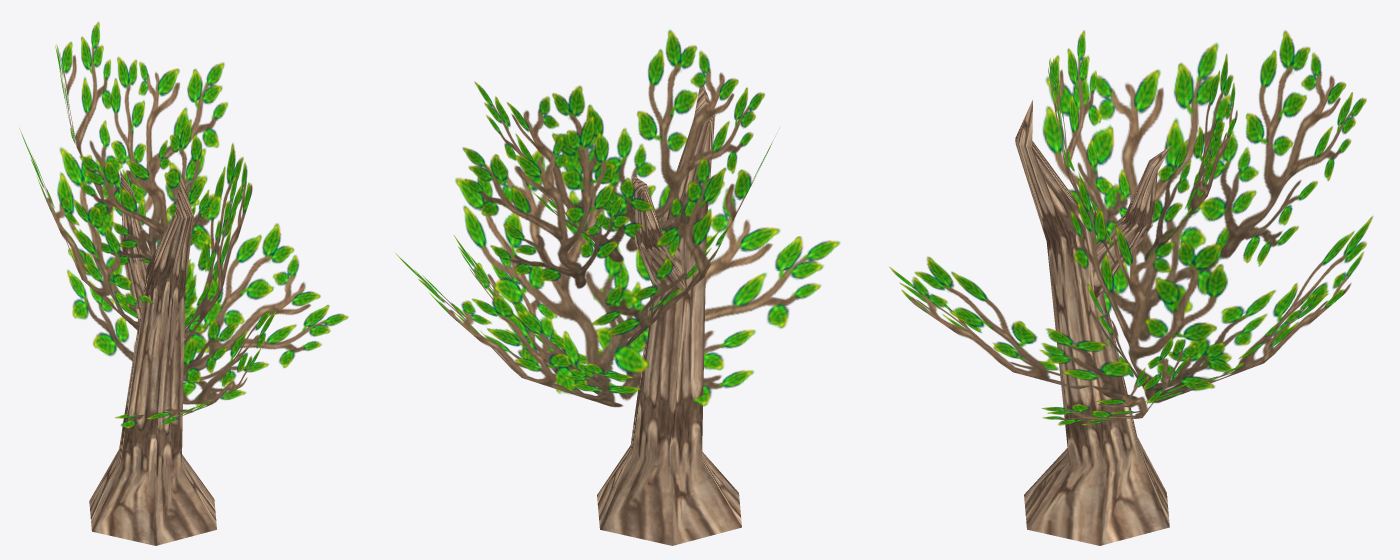
3 views of the same model, side by side, from view 1: azimuth 30°, elevation 25°; view 2: azimuth 150°, elevation 25°; view 3: azimuth 270°, elevation 25° (orthographic). The views are drawn at different scales.
Visible parts, largest first — view 1: branches_green, trunk_green; view 2: branches_green, trunk_green; view 3: branches_green, trunk_green.
Part boxes in pixels (bbox=[...]): branches_green: bbox=[19, 21, 348, 428]; trunk_green: bbox=[89, 170, 216, 545]; branches_green: bbox=[395, 30, 839, 407]; trunk_green: bbox=[597, 85, 741, 545]; branches_green: bbox=[889, 30, 1372, 425]; trunk_green: bbox=[1015, 100, 1171, 545].
Bounding box in the file's own units: 206 × 312 × 292.
2 materials, 2 textured.
